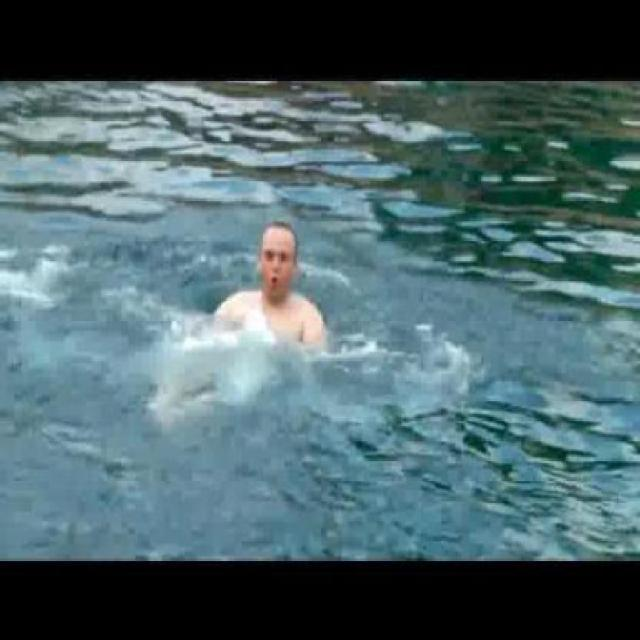Out of Water: (214, 215, 340, 354)
